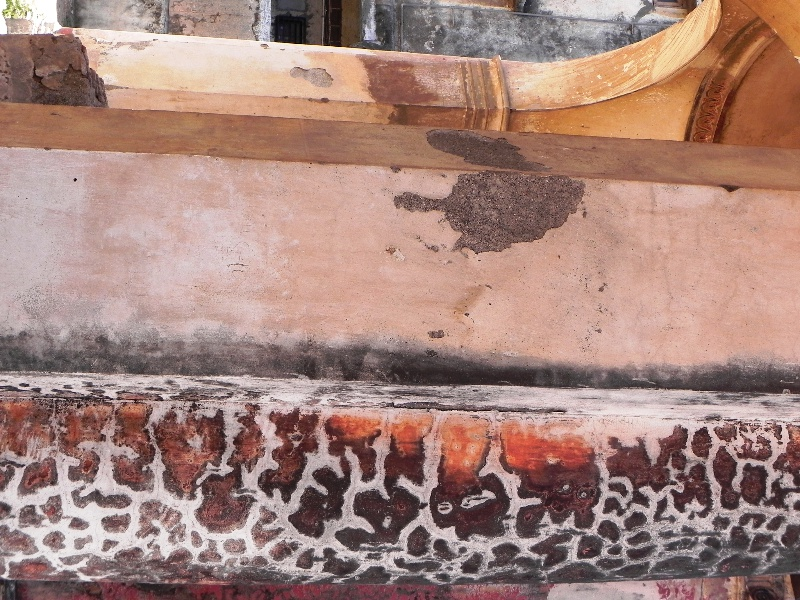Spalling: (385, 126, 595, 262)
